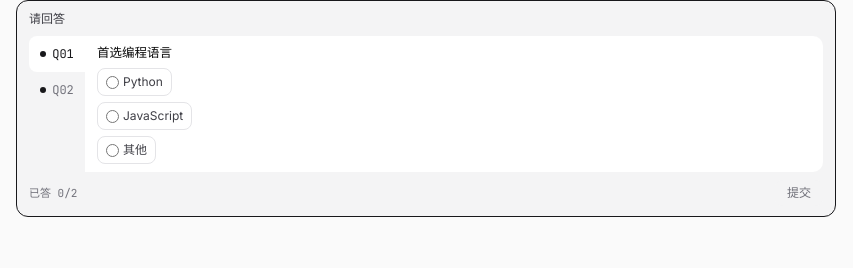
Test: ComponentPendingQuestionCard · 「其他」恒定渲染 › allowOther=false 也渲染「其他」，选中展开输入框
The width and height of the screenshot is (853, 268).
Expected: the field with placeholder "请输入其他答案" is not shown
Click the text "其他".
click(126, 150)  # box [97,136,156,164]
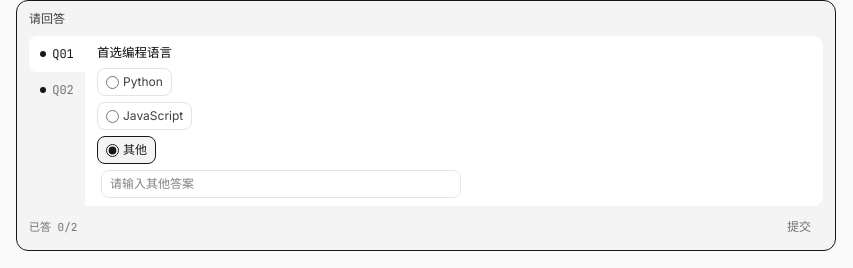
Expected: the text box with placeholder "请输入其他答案" is shown, [101,170,461,198]
